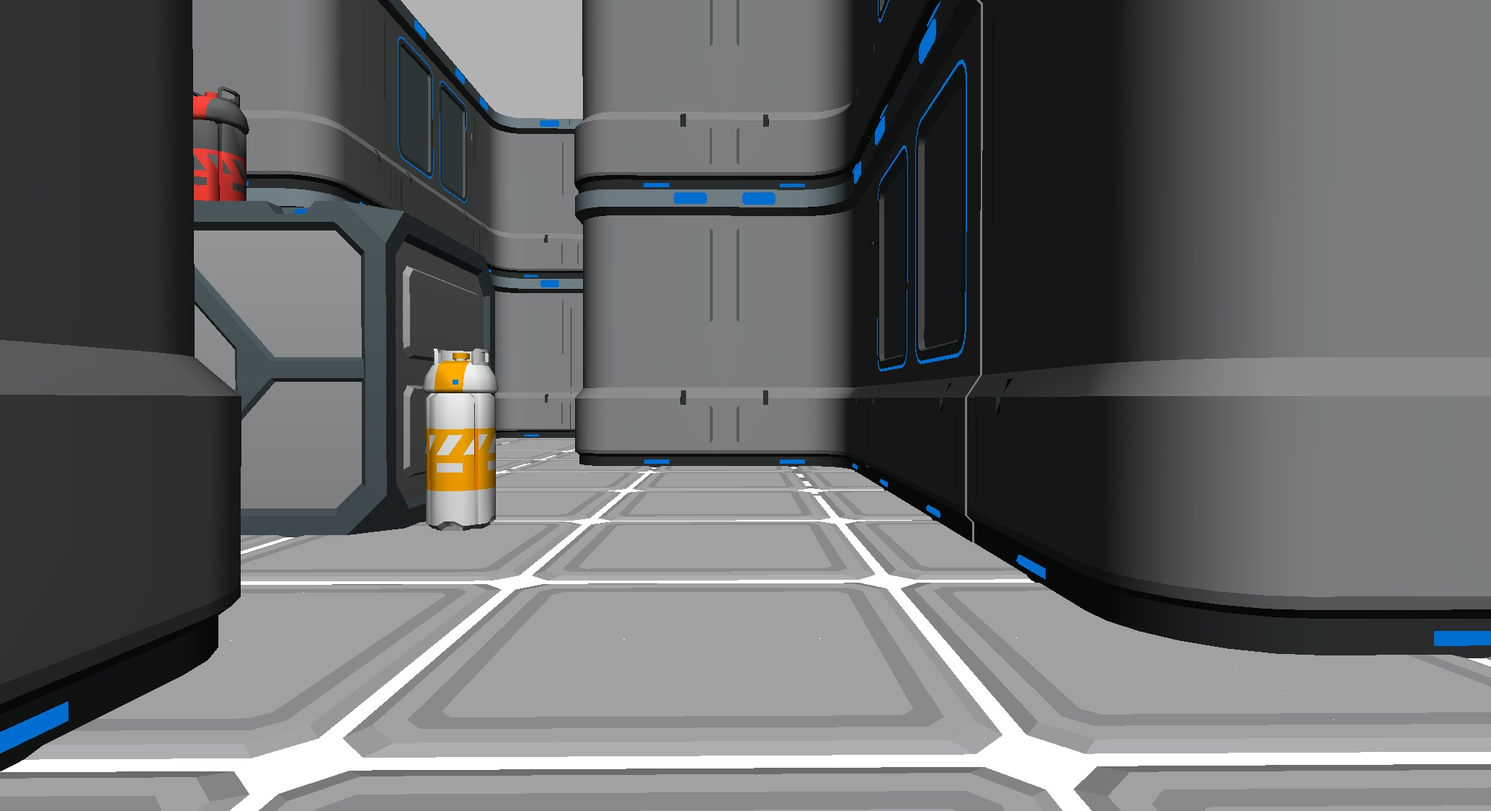red_barrel: (194, 87, 249, 200)
yellow_barrel: (426, 349, 497, 529)
